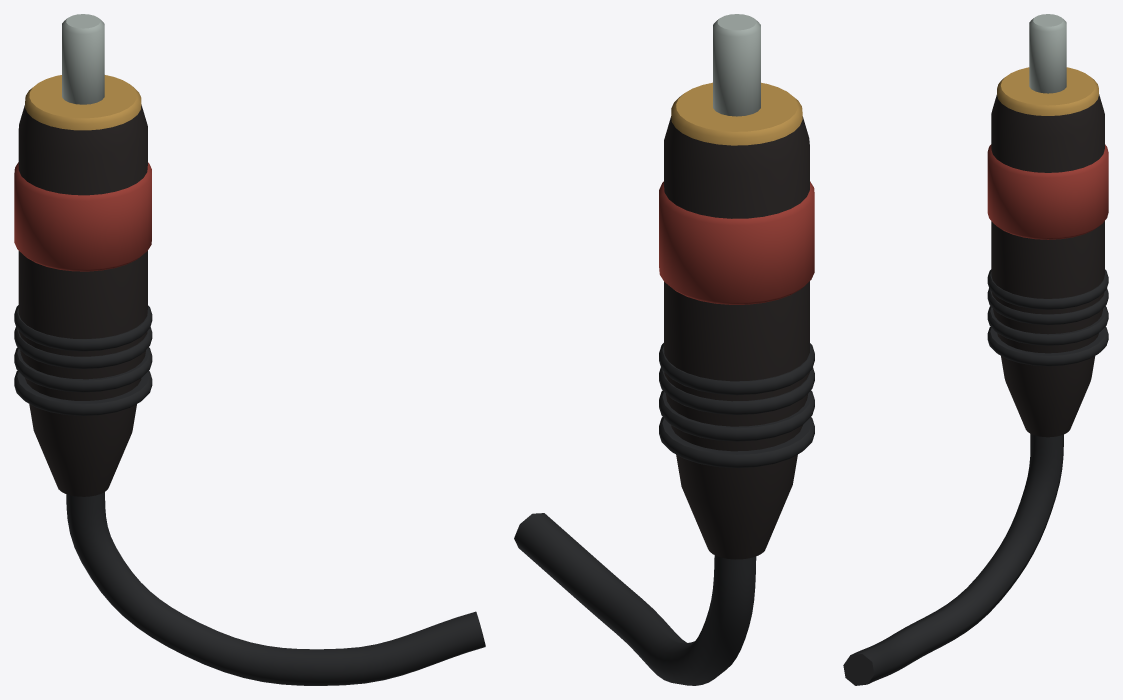
The model's file is ServicePlug_Fire.fbx.
The picture shows the model from 3 angles, left to right: view 1: azimuth 30°, elevation 25°; view 2: azimuth 150°, elevation 25°; view 3: azimuth 270°, elevation 25°; orthographic projection. The views are drawn at different scales.
Parts seen in each view (by area): view 1: Cable grip.003, Coiled lead.003, Crew identification ring.003, Brass collar.003, Contact tip.003, Grip rib.012, Grip rib.013, Grip rib.015, Grip rib.014; view 2: Cable grip.003, Coiled lead.003, Crew identification ring.003, Brass collar.003, Contact tip.003, Grip rib.012, Grip rib.013, Grip rib.015, Grip rib.014; view 3: Cable grip.003, Coiled lead.003, Crew identification ring.003, Brass collar.003, Contact tip.003, Grip rib.012, Grip rib.013, Grip rib.015, Grip rib.014.
Boxes of the visible parts, <box> form: Cable grip.003: <box>18,104,147,496</box>; Coiled lead.003: <box>66,492,485,685</box>; Crew identification ring.003: <box>14,162,151,271</box>; Brass collar.003: <box>25,75,141,130</box>; Contact tip.003: <box>62,14,104,104</box>; Grip rib.012: <box>14,370,152,415</box>; Grip rib.013: <box>14,347,152,392</box>; Grip rib.015: <box>14,305,152,351</box>; Grip rib.014: <box>14,327,152,368</box>; Cable grip.003: <box>664,116,809,559</box>; Coiled lead.003: <box>514,513,756,685</box>; Crew identification ring.003: <box>659,181,814,304</box>; Brass collar.003: <box>671,82,802,145</box>; Contact tip.003: <box>713,14,760,116</box>; Grip rib.012: <box>659,417,814,467</box>; Grip rib.013: <box>659,390,814,441</box>; Grip rib.015: <box>659,343,814,395</box>; Grip rib.014: <box>659,367,814,414</box>; Cable grip.003: <box>991,94,1104,437</box>; Coiled lead.003: <box>843,434,1063,685</box>; Crew identification ring.003: <box>987,144,1108,239</box>; Brass collar.003: <box>997,67,1098,115</box>; Contact tip.003: <box>1029,14,1066,93</box>; Grip rib.012: <box>987,326,1108,366</box>; Grip rib.013: <box>987,306,1108,345</box>; Grip rib.015: <box>987,269,1108,309</box>; Grip rib.014: <box>987,288,1108,325</box>.
Bounding box in the file's own units: 0.1906 × 0.3313 × 0.1402.
